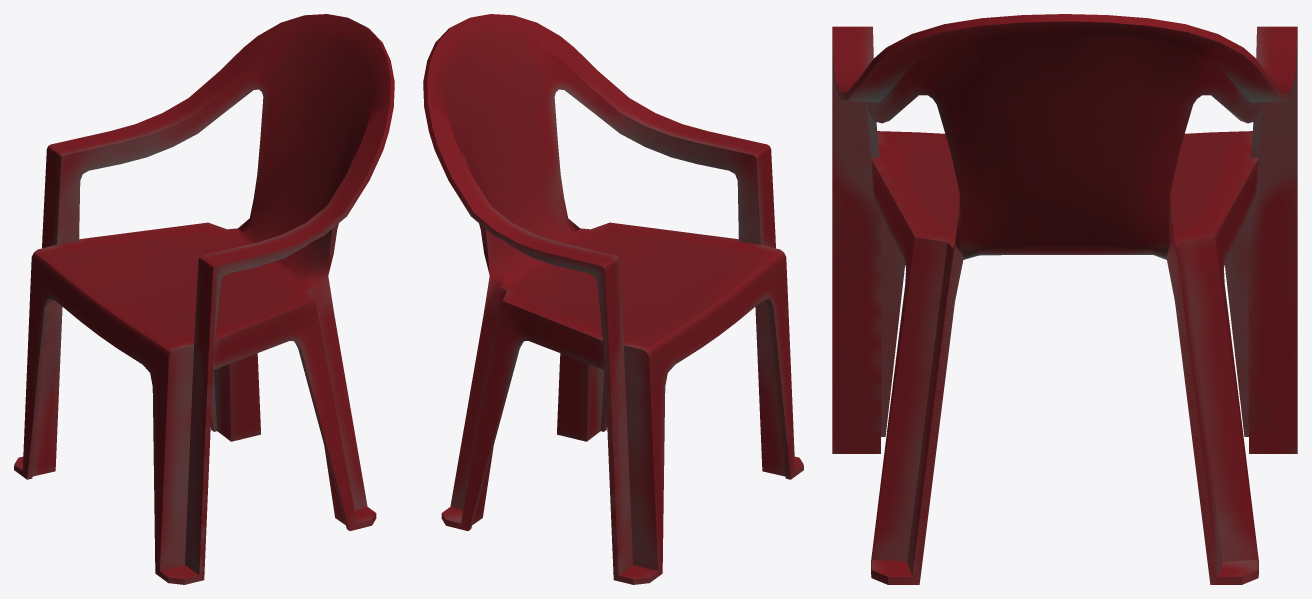
Rendered from CR_Plastic_chair1.fbx.
3 renders of one model, left to right at view 1: azimuth 30°, elevation 25°; view 2: azimuth 150°, elevation 25°; view 3: azimuth 270°, elevation 25°, orthographic. The views are drawn at different scales.
Visible parts, largest first — view 1: Plastic_chair1; view 2: Plastic_chair1; view 3: Plastic_chair1.
Boxes of the visible parts, bbox=[...] form: Plastic_chair1: bbox=[14, 14, 394, 584]; Plastic_chair1: bbox=[423, 14, 803, 584]; Plastic_chair1: bbox=[832, 14, 1297, 584].
Bounding box in the file's own units: 54.2 × 80.66 × 56.02.
